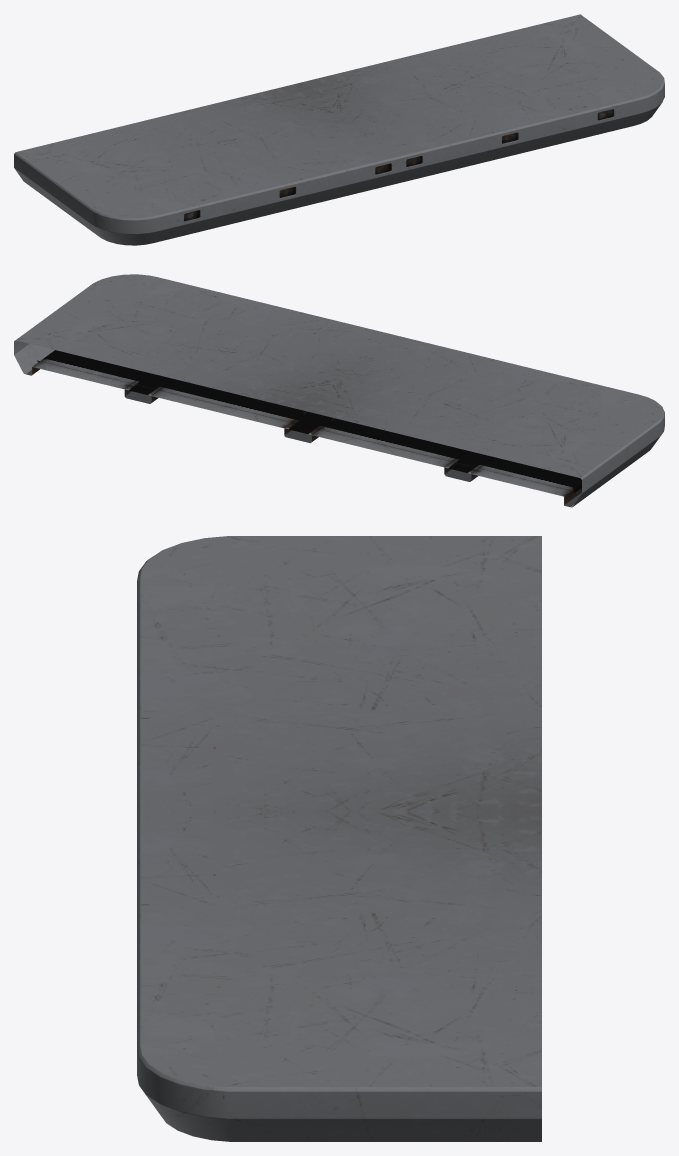
The model's file is SM_HangarWallFloor02.fbx.
The picture shows the model from 3 angles, top to bottom: view 1: azimuth 30°, elevation 25°; view 2: azimuth 150°, elevation 25°; view 3: azimuth 270°, elevation 25°; orthographic projection. The views are drawn at different scales.
Visible parts, largest first — view 1: SM_HangarWallFloor02_LOD0; view 2: SM_HangarWallFloor02_LOD0; view 3: SM_HangarWallFloor02_LOD0.
Part boxes in pixels (left/top/right/bottom): SM_HangarWallFloor02_LOD0: left=14, top=14, right=664, bottom=245; SM_HangarWallFloor02_LOD0: left=14, top=274, right=664, bottom=507; SM_HangarWallFloor02_LOD0: left=137, top=536, right=541, bottom=1141.
Size of the model in its own units: 1105 by 341 by 58.6.
1 material, 1 textured.
